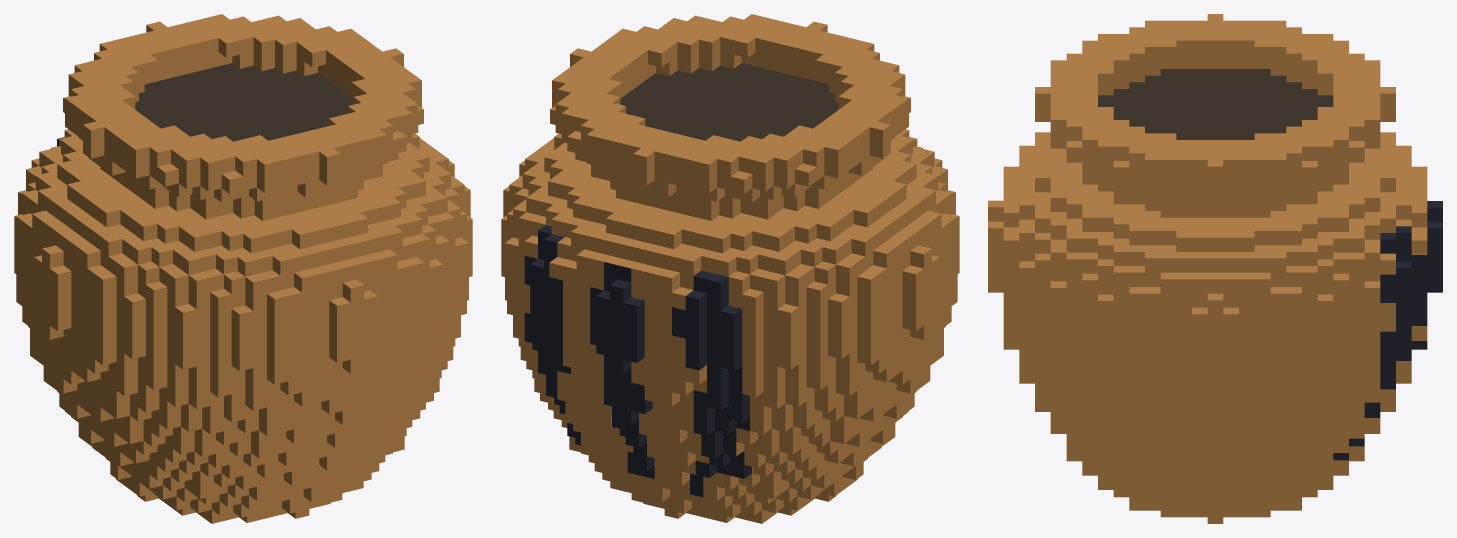
Rendered from TEMAE_tubofbx.fbx.
3 views of the same model, side by side, from view 1: azimuth 30°, elevation 25°; view 2: azimuth 150°, elevation 25°; view 3: azimuth 270°, elevation 25° (orthographic).
Parts seen in each view (by area): view 1: temaemiso, temaemiso.002; view 2: temaemiso, temaemiso.001, temaemiso.002; view 3: temaemiso, temaemiso.002, temaemiso.001.
Boxes of the visible parts, <box> form: temaemiso: <box>14,14,472,523</box>; temaemiso.002: <box>135,63,353,141</box>; temaemiso: <box>501,14,959,523</box>; temaemiso.001: <box>524,225,751,497</box>; temaemiso.002: <box>620,63,838,141</box>; temaemiso: <box>988,14,1427,523</box>; temaemiso.002: <box>1098,69,1333,139</box>; temaemiso.001: <box>1333,201,1442,460</box>.
Size of the model in its own units: 2.65 by 2.46 by 2.65.
